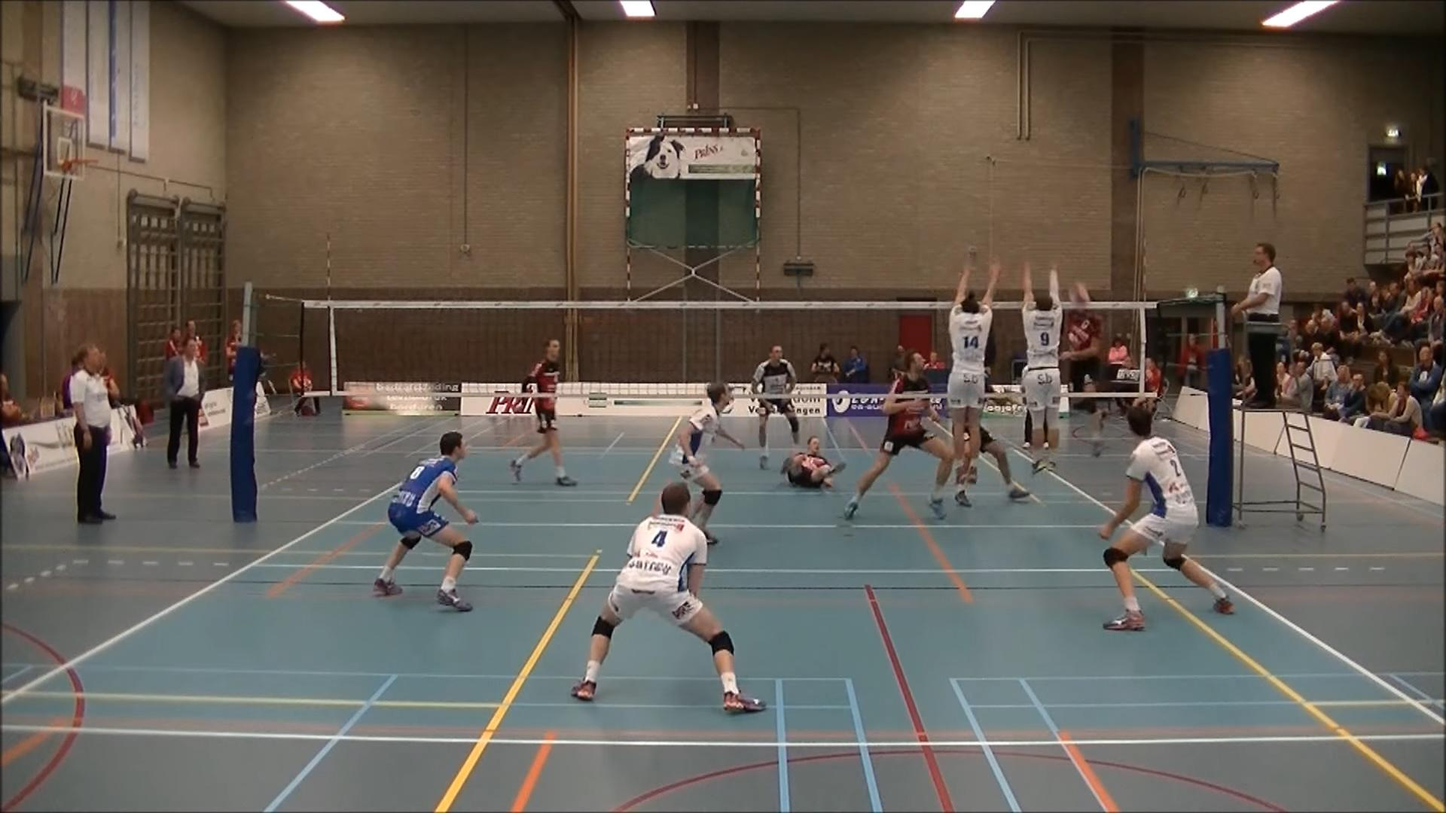attacco: (1049, 265, 1131, 433)
muro: (937, 261, 1002, 507), (1019, 258, 1071, 478)
